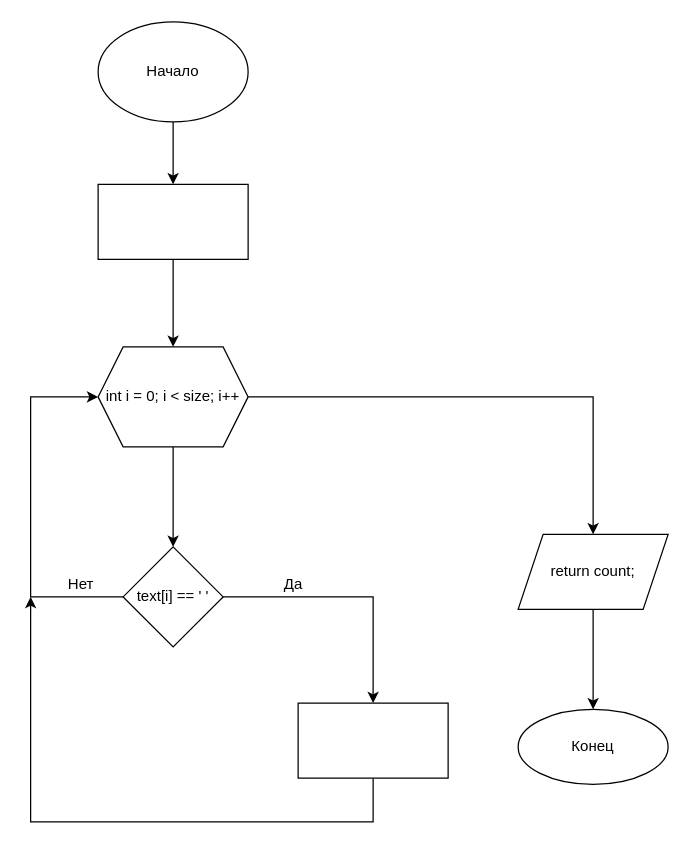
Image size: 690x854. Some labels were removed from this diagram. Each missing label, with the box of its shape:
count++;: (297, 702, 448, 778)
int count = 0;: (97, 183, 248, 259)
